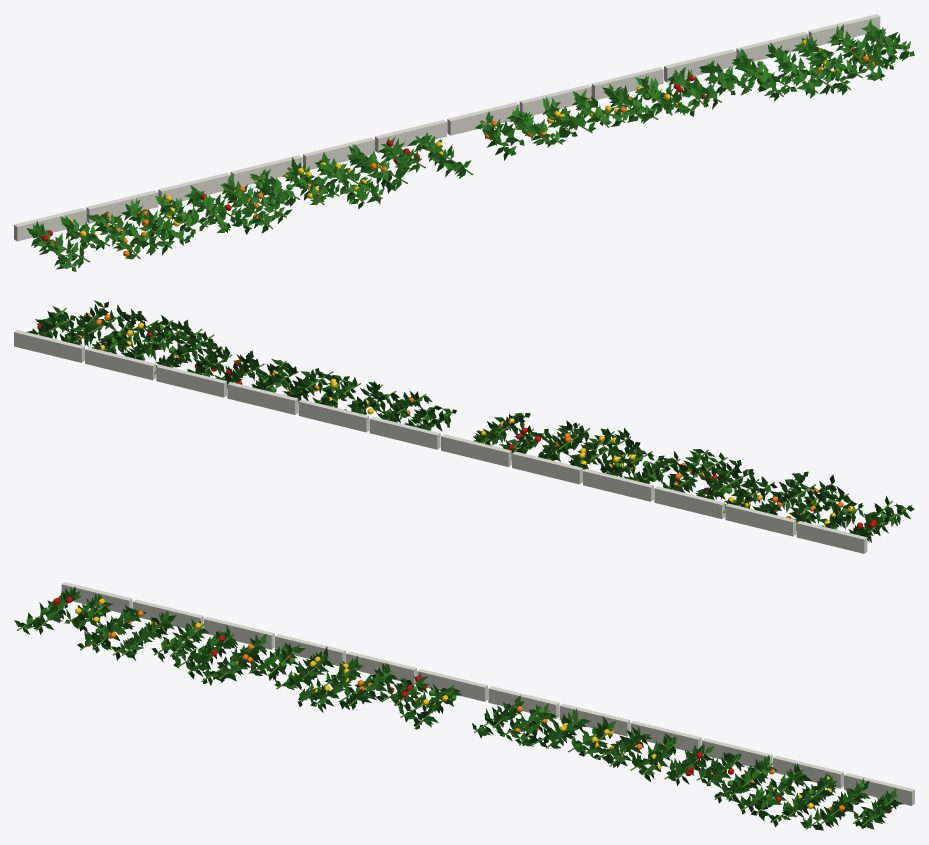
The model's file is row8.obj.
3 renders of one model, top to bottom at view 1: azimuth 30°, elevation 25°; view 2: azimuth 150°, elevation 25°; view 3: azimuth 330°, elevation 25°, orthographic.
Parts seen in each view (by area): view 1: row8; view 2: row8; view 3: row8.
Boxes of the visible parts, x1,y1,x2,y2 form: row8: [14, 14, 914, 271]; row8: [14, 300, 914, 553]; row8: [14, 582, 914, 830].
Size of the model in its own units: 12.5 by 0.4424 by 1.5.
